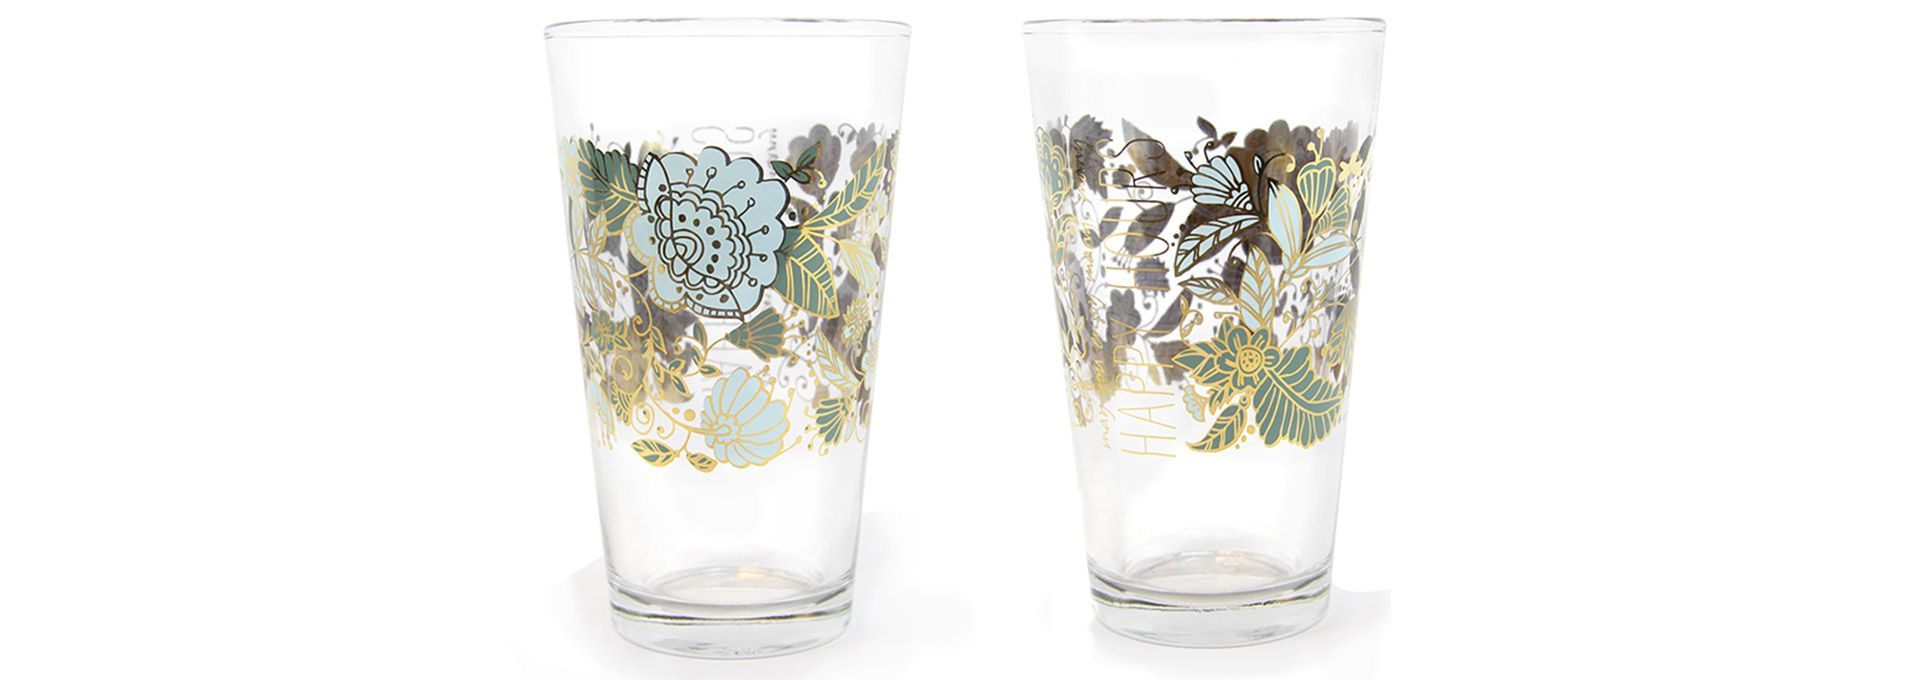Nonrec_Glass: (992, 15, 1379, 657), (525, 13, 905, 665)
